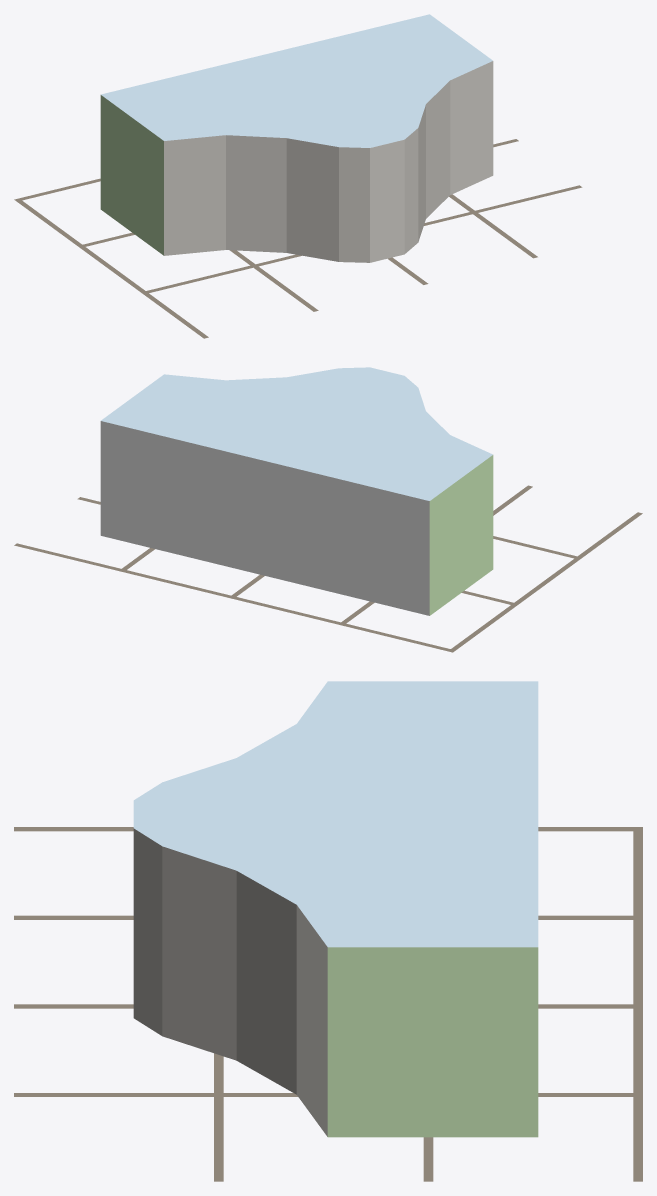
The model's file is Wall_Straight_Deformed_Convex_3x3_Mid.glb.
The picture shows the model from 3 angles, top to bottom: view 1: azimuth 30°, elevation 25°; view 2: azimuth 150°, elevation 25°; view 3: azimuth 270°, elevation 25°; orthographic projection. The views are drawn at different scales.
Parts seen in each view (by area): view 1: Wall_Straight_Deformed_Convex_3x3_Mid, Floor; view 2: Wall_Straight_Deformed_Convex_3x3_Mid, Floor; view 3: Wall_Straight_Deformed_Convex_3x3_Mid, Floor.
Part boxes in pixels (x1,y1,x2,y2): Wall_Straight_Deformed_Convex_3x3_Mid: [100, 14, 493, 262]; Floor: [14, 139, 582, 338]; Wall_Straight_Deformed_Convex_3x3_Mid: [100, 367, 493, 615]; Floor: [14, 485, 642, 652]; Wall_Straight_Deformed_Convex_3x3_Mid: [133, 681, 538, 1137]; Floor: [14, 827, 642, 1181].
Bounding box in the file's own units: 400 × 100 × 300.
Materials: 5 (1 with a texture image).
